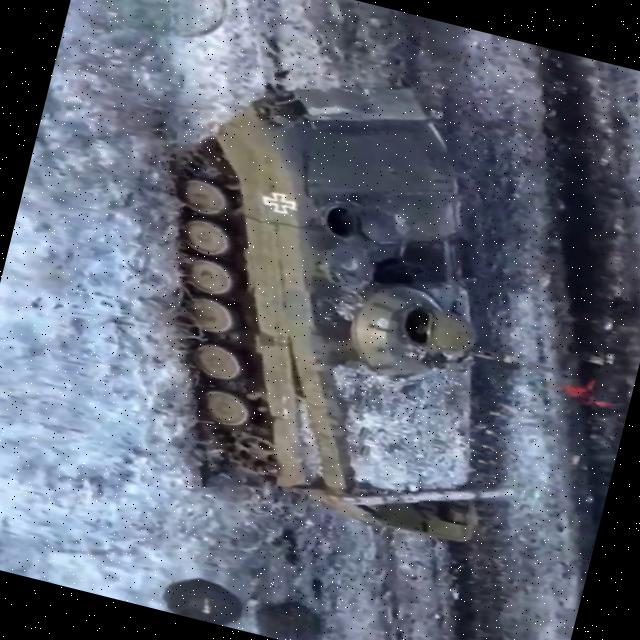AIFV: (84, 37, 585, 550)
